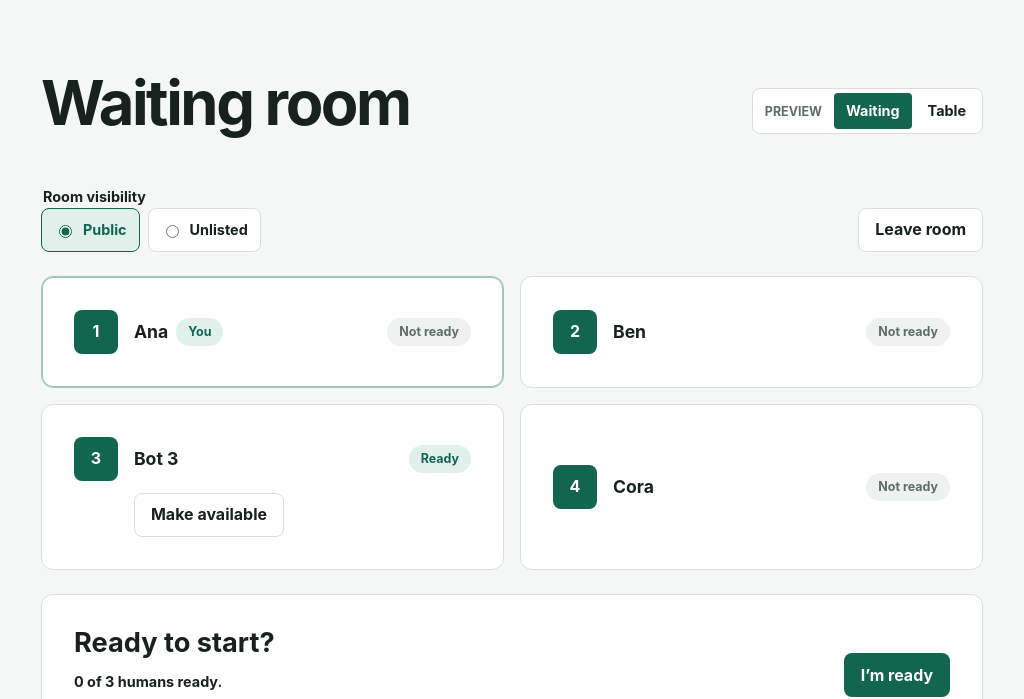
Test: waiting room screen › shows a server rejection and retains authoritative controls
Click the button "Make available" at x=209, y=515, box [134,493,284,537]
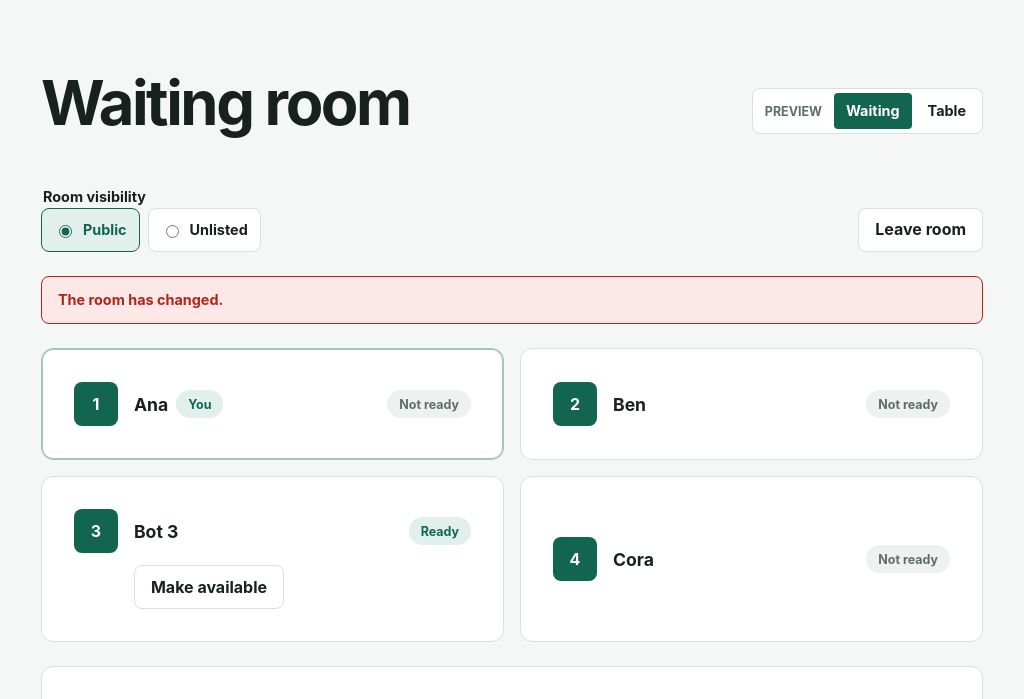
Check: the button "Make available" is enabled, box [134,565,284,609]
Check: the message "The room has changed." is shown, box [41,276,983,324]
